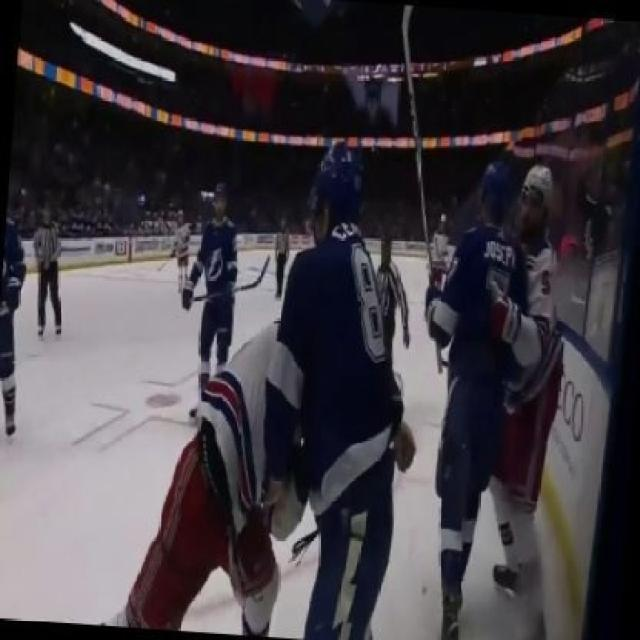fight: (116, 136, 417, 638), (365, 155, 625, 636)
non-fight: (23, 195, 72, 340)
